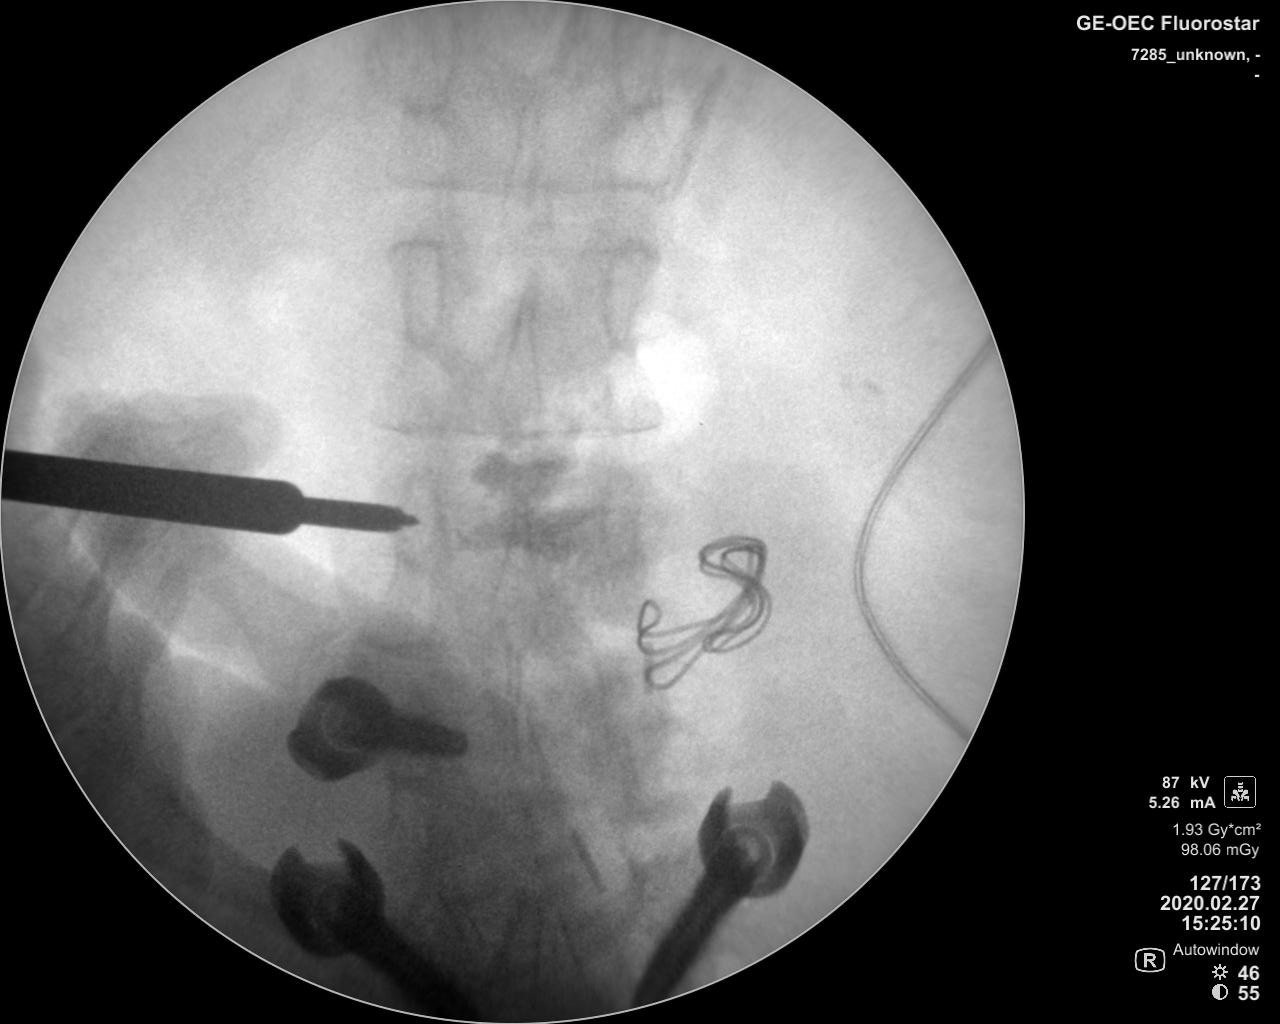eyes: (378, 11, 456, 110), (609, 14, 667, 113), (393, 472, 447, 572), (600, 460, 644, 571), (602, 243, 646, 352), (401, 239, 442, 349)
line: (368, 415, 670, 448), (382, 164, 669, 197), (385, 233, 661, 261)
nose: (496, 276, 546, 437), (492, 498, 544, 648), (502, 98, 546, 211)
